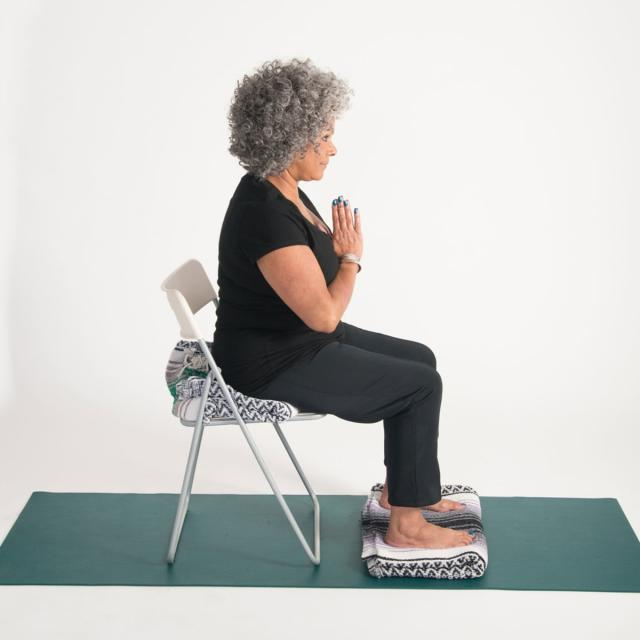nonfall: (195, 38, 493, 588)
